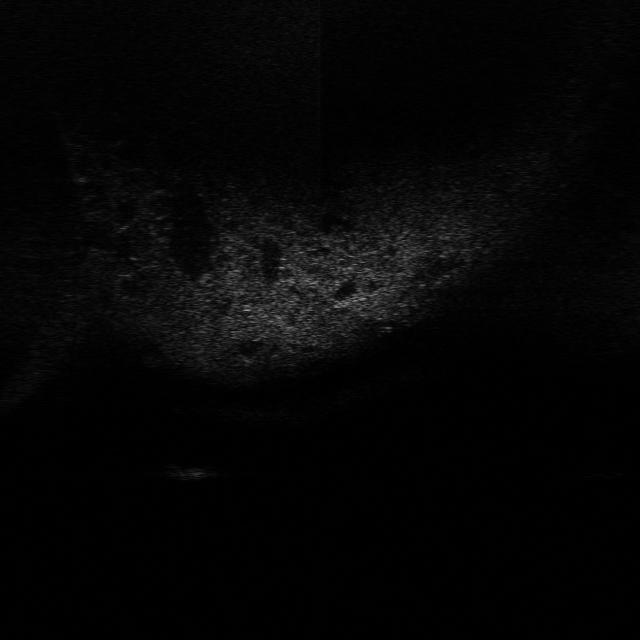cube: (159, 457, 217, 483)
